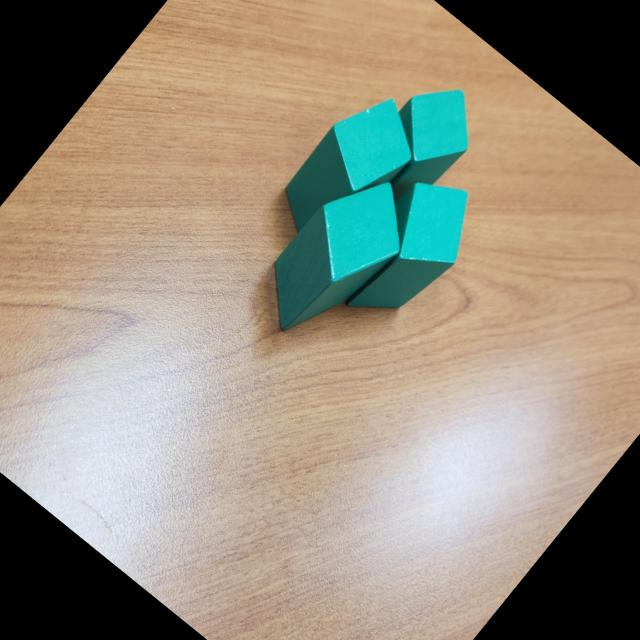green: (242, 156, 430, 358), (318, 156, 494, 340), (266, 78, 436, 260), (352, 66, 496, 218)
